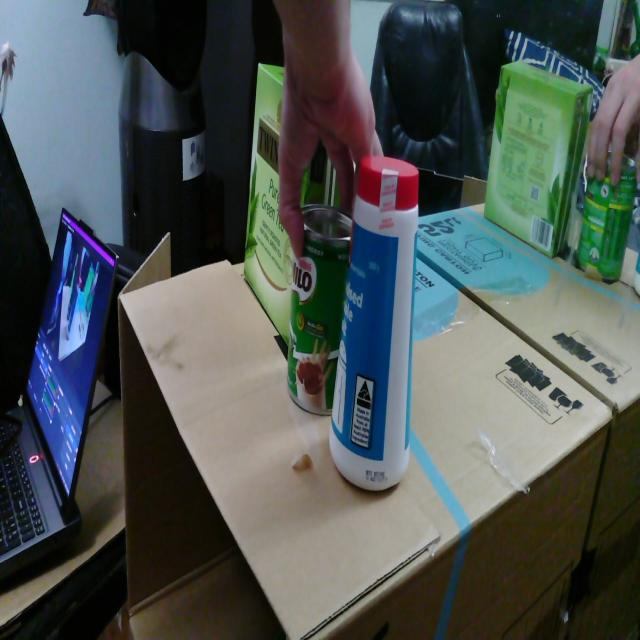nestle_milo_tin: (287, 204, 352, 414)
twinings_greentea_box: (244, 63, 293, 346), (301, 143, 340, 207)
woolworths_salt_bottle: (329, 155, 419, 491)
